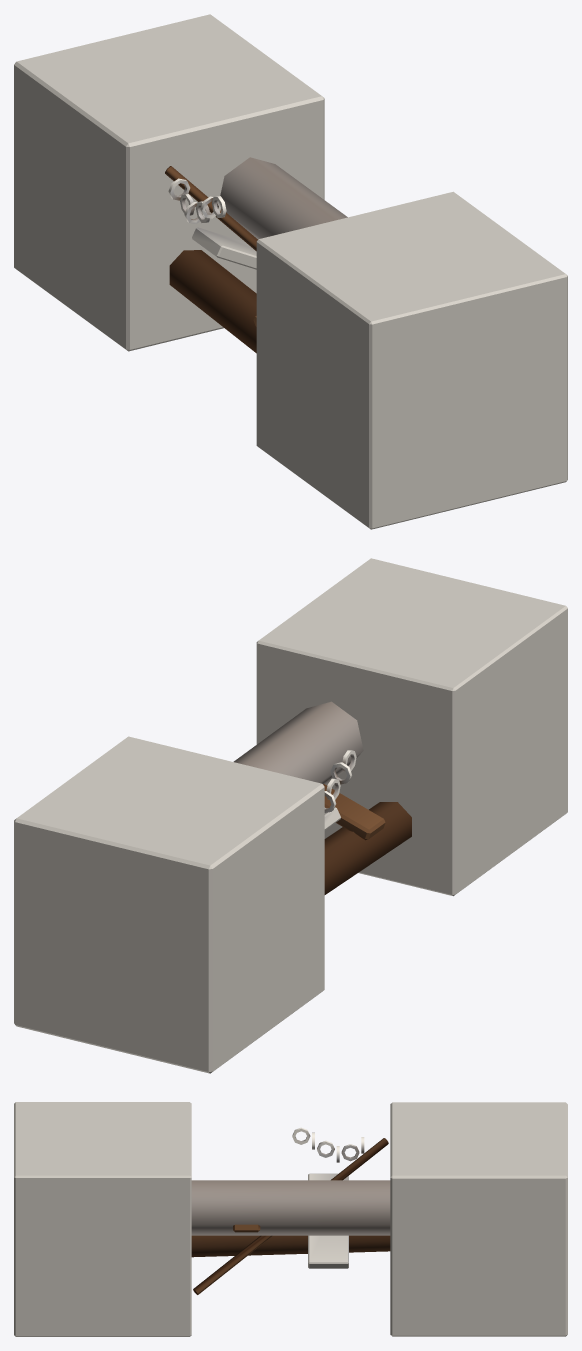
Rendered from R4C_STRUT_STANDARD_LOD1.fbx.
The picture shows the model from 3 angles, top to bottom: view 1: azimuth 30°, elevation 25°; view 2: azimuth 150°, elevation 25°; view 3: azimuth 270°, elevation 25°; orthographic projection. The views are drawn at different scales.
Parts seen in each view (by area): view 1: R4C_STRUT_STANDARD_LOD1; view 2: R4C_STRUT_STANDARD_LOD1; view 3: R4C_STRUT_STANDARD_LOD1.
Boxes of the visible parts, x1,y1,x2,y2 form: R4C_STRUT_STANDARD_LOD1: (14,14,567,529); R4C_STRUT_STANDARD_LOD1: (14,558,567,1073); R4C_STRUT_STANDARD_LOD1: (14,1102,567,1336).
Bounding box in the file's own units: 0.52 × 0.52 × 1.62.
